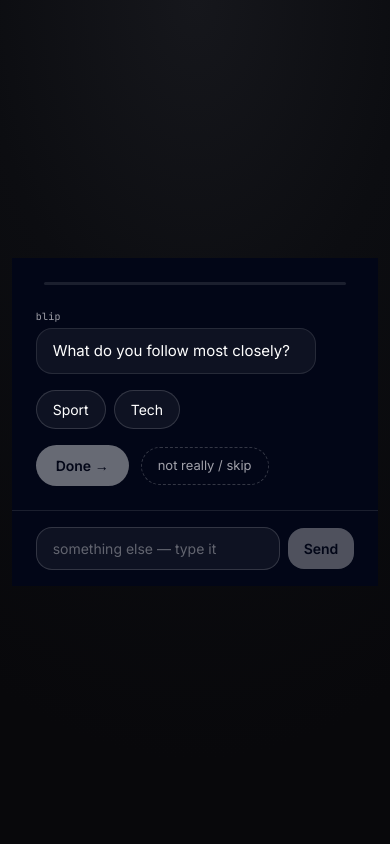
Test: InterviewChat — one-scrollback interview (Rule 9) › multi-selects chips and sends ALL taps on one exchange, keeping history visible
The width and height of the screenshot is (390, 844).
Click the button with test id "option-chip" showing "Sport". click: (71,410)
box: 36,390 -> 106,429
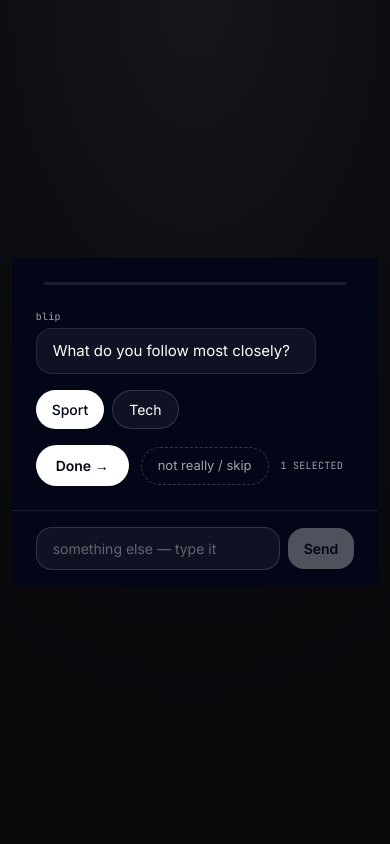
Click the button with test id "option-chip" showing "Tech". click: (145,410)
box: 112,390 -> 179,429
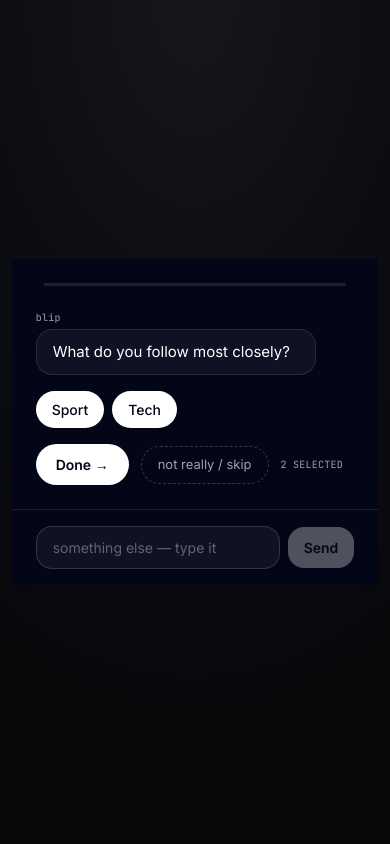
Click the button "Done →". click: (82,465)
box: 36,444 -> 129,485
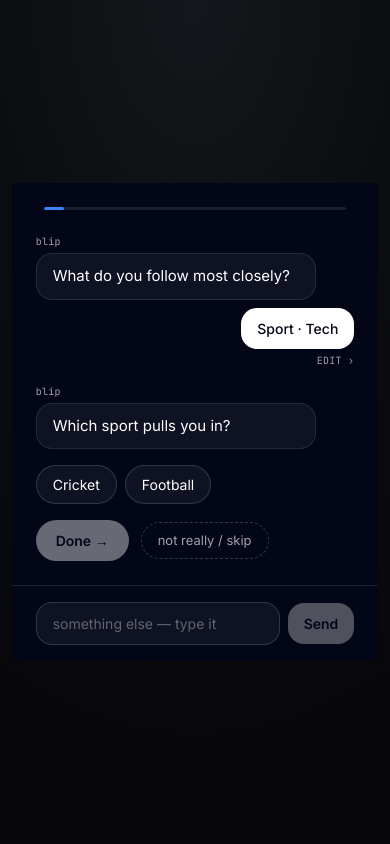
Check: the text "What do you follow most closely?" is shown, box 36,253 -> 316,300
Check: the text "Which sport pulls you in?" is shown, box 36,402 -> 316,449
